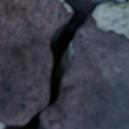broken_brick: (42, 16, 128, 128), (0, 0, 71, 124)
crack: (2, 0, 128, 128)
